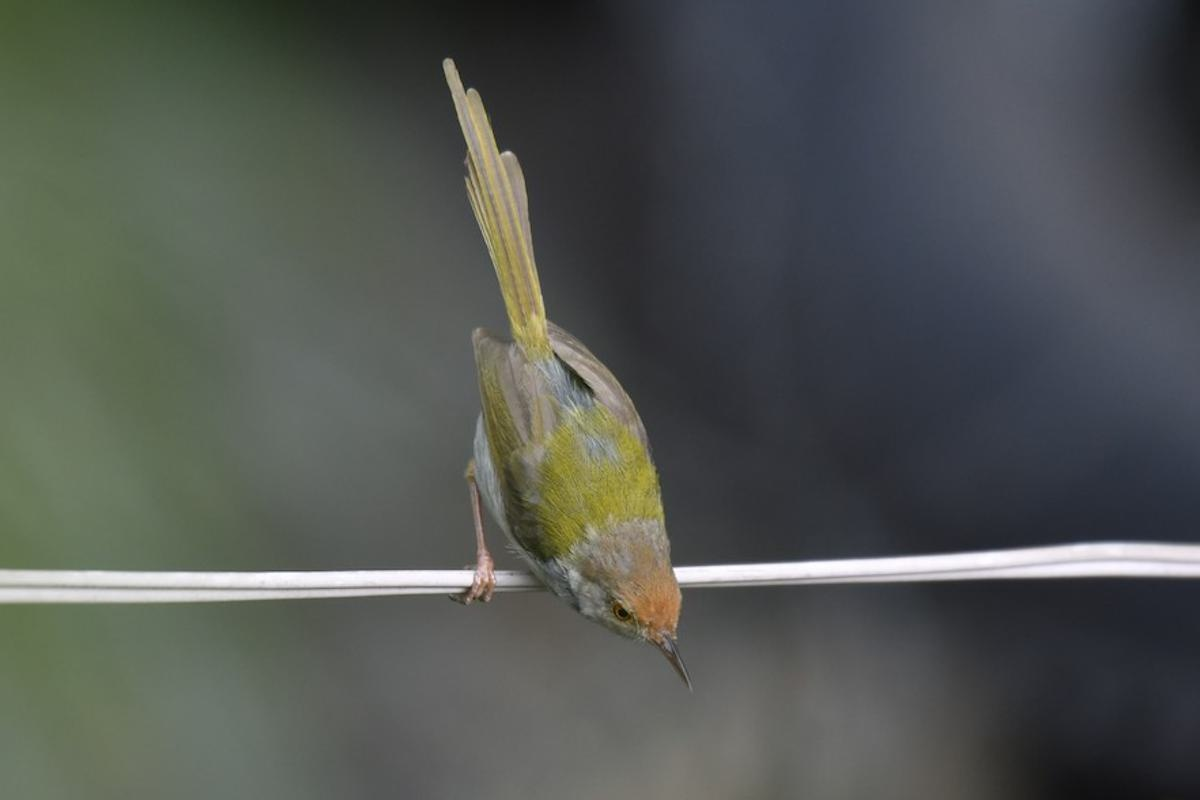tailorbird: (407, 67, 738, 697)
